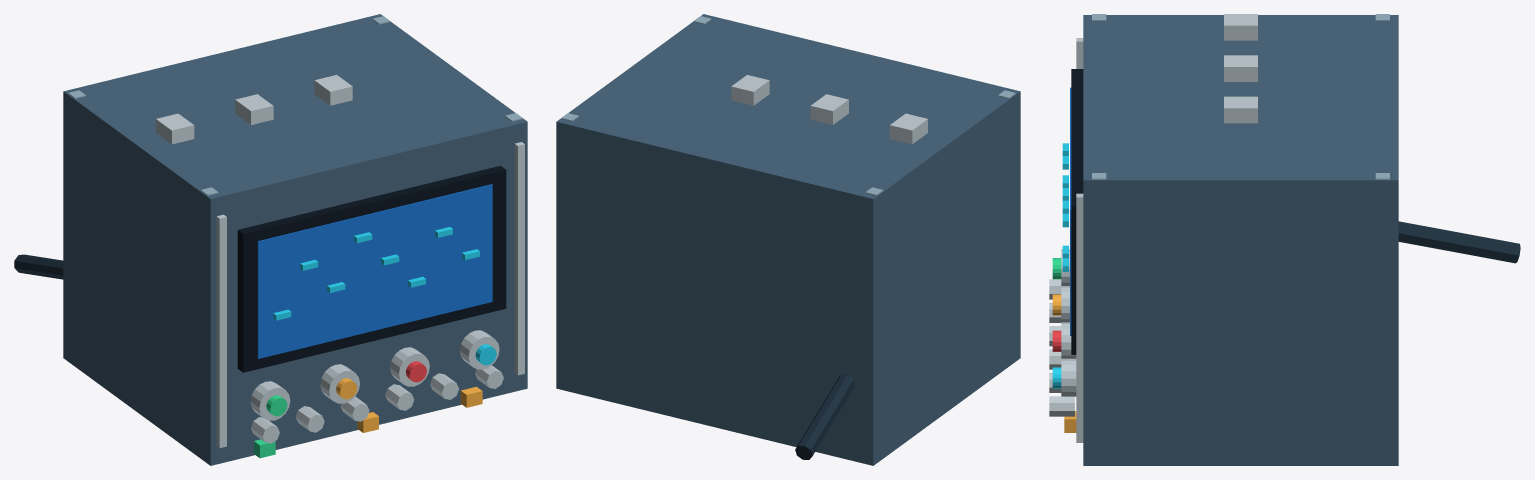
The model's file is 56_L80_OpticalLinkSupervisoryController.fbx.
3 renders of one model, left to right at view 1: azimuth 30°, elevation 25°; view 2: azimuth 150°, elevation 25°; view 3: azimuth 270°, elevation 25°, orthographic. The views are drawn at different scales.
Visible parts, largest first — view 1: OpticalLinkSupervisoryController; view 2: OpticalLinkSupervisoryController; view 3: OpticalLinkSupervisoryController.
Boxes of the visible parts, x1,y1,x2,y2 form: OpticalLinkSupervisoryController: (14, 14, 527, 465); OpticalLinkSupervisoryController: (556, 14, 1020, 465); OpticalLinkSupervisoryController: (1049, 14, 1520, 465).
Bounding box in the file's own units: 92 × 77.86 × 111.
